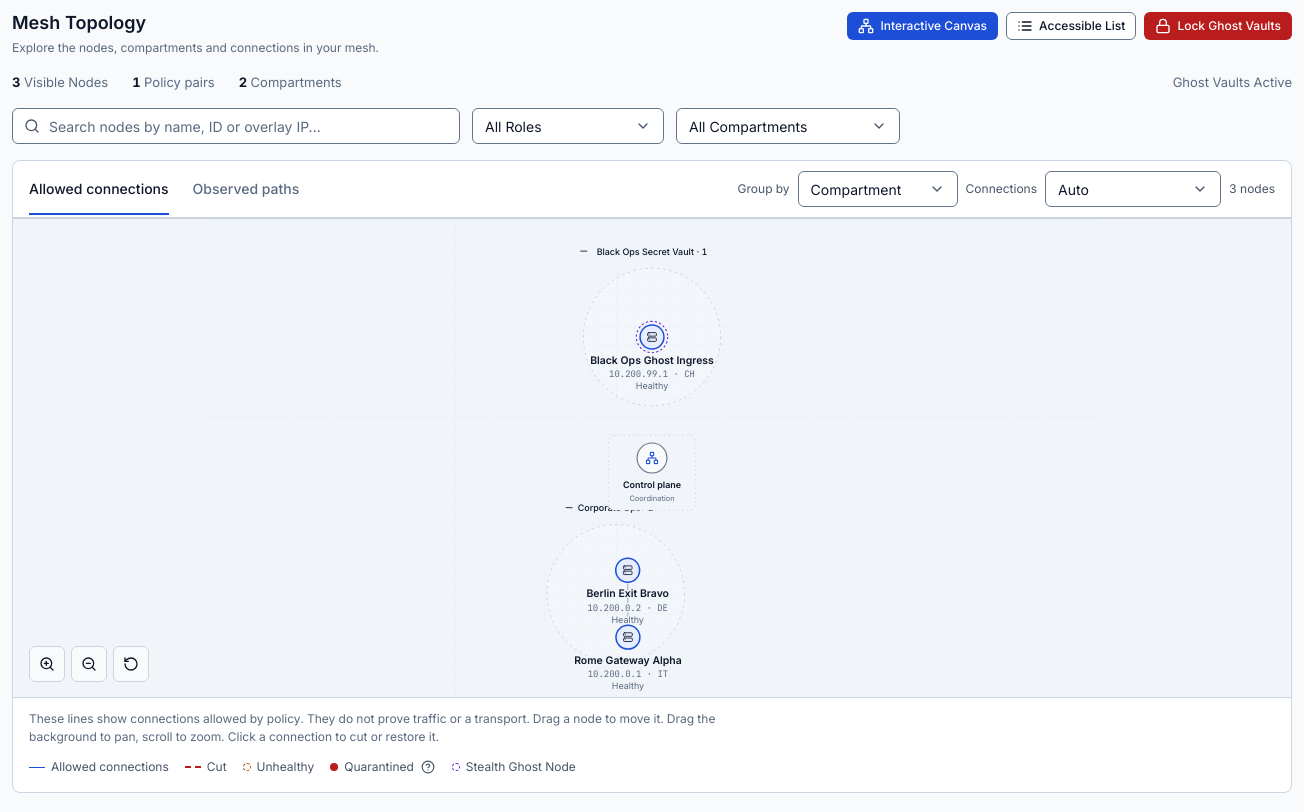
Test: WP-406: TopologyRoute (Interactive Topology & Ghost Vaults Dynamic Unlock) › 4. Lock Ghost Vaults: immediately conceals secret nodes and reverts tier
Expected: the text "Ghost Vaults Active" is shown, left=1173, top=72, right=1292, bottom=92
Click lock
Click the button "Lock Ghost Vaults". click: (1218, 26)
box: left=1144, top=12, right=1292, bottom=40
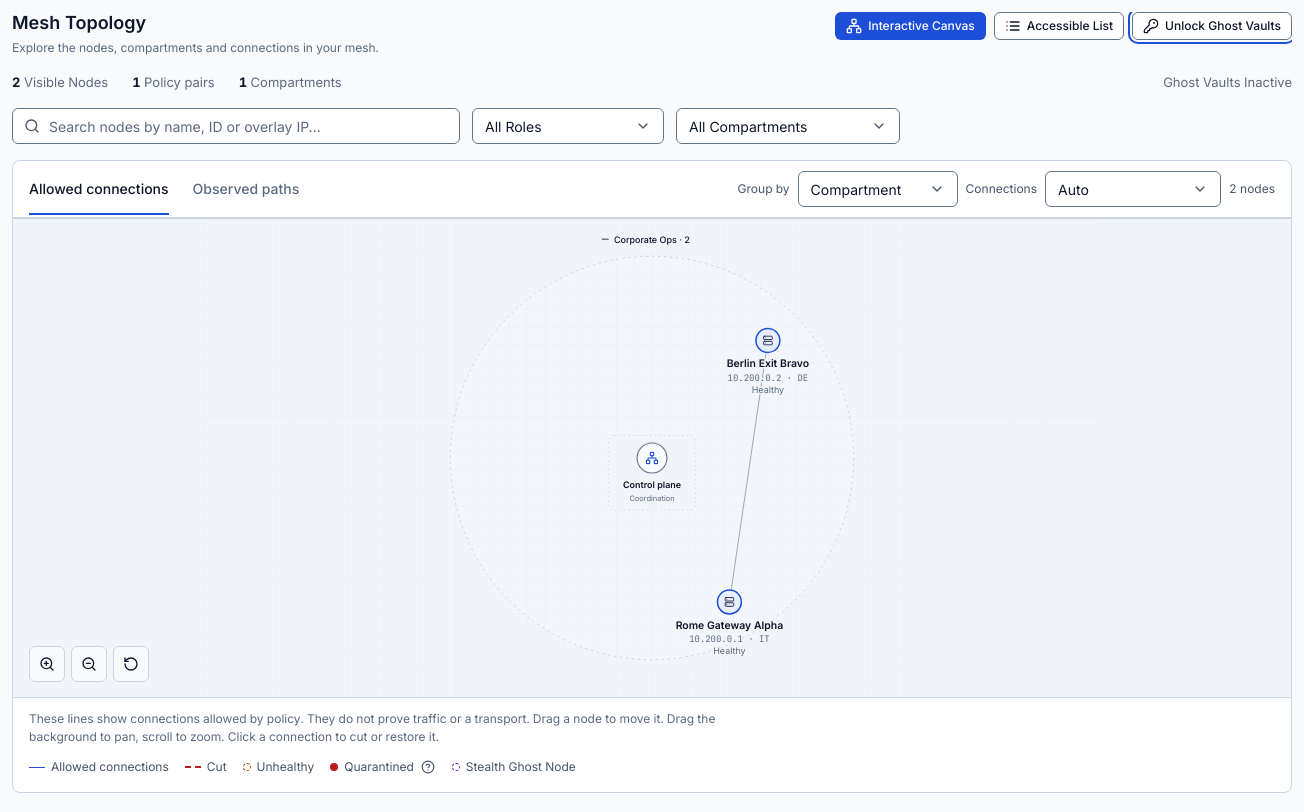
Expected: the text "Ghost Vaults Inactive" is shown, left=1163, top=72, right=1292, bottom=92
Expected: the button "Unlock Ghost Vaults" is shown, left=1132, top=12, right=1292, bottom=40
